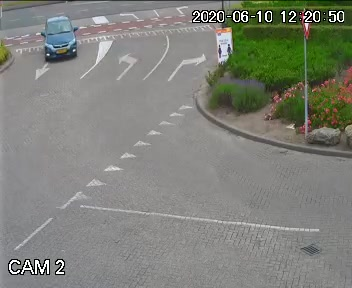car: (38, 12, 81, 64)
